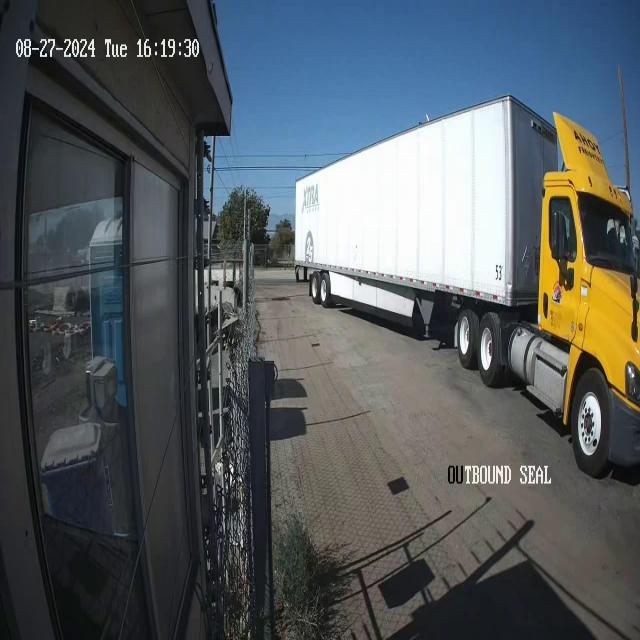TRUCK_IN: (293, 78, 639, 478)
